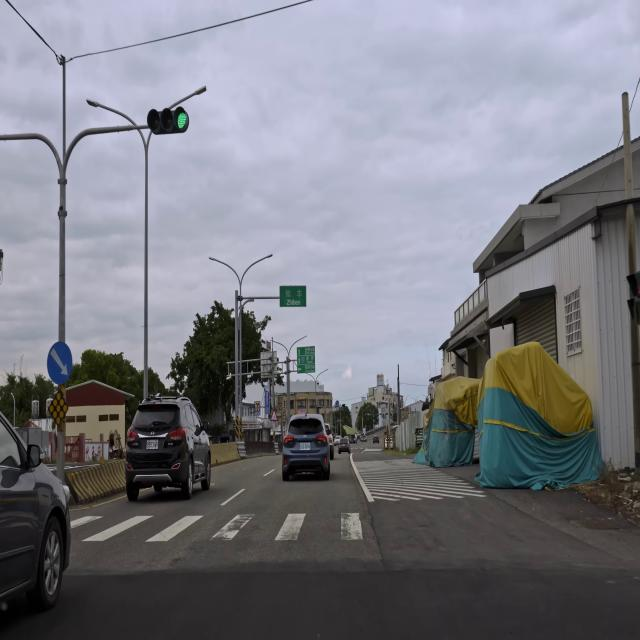green light: (147, 109, 189, 133)
